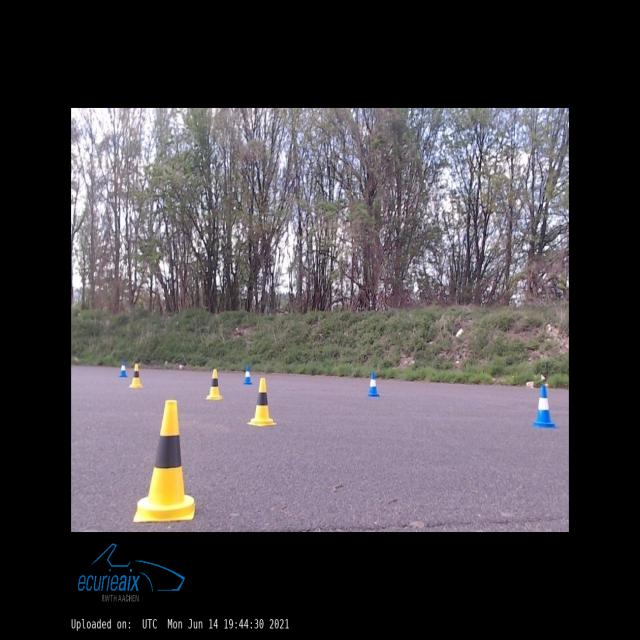blue_cone: (533, 386, 557, 429), (368, 372, 380, 397), (244, 366, 252, 384), (119, 362, 127, 377)
yellow_cone: (134, 400, 195, 521), (247, 378, 276, 426), (206, 370, 223, 400), (128, 364, 142, 388)
